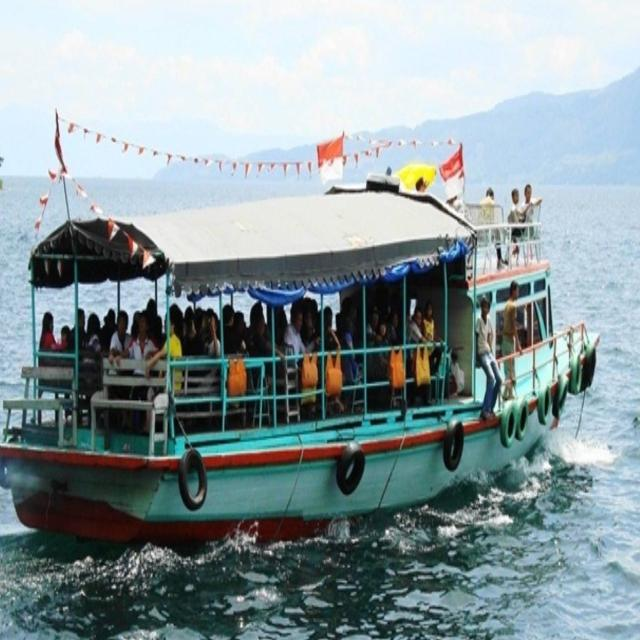passenger ship: (0, 122, 610, 536)
